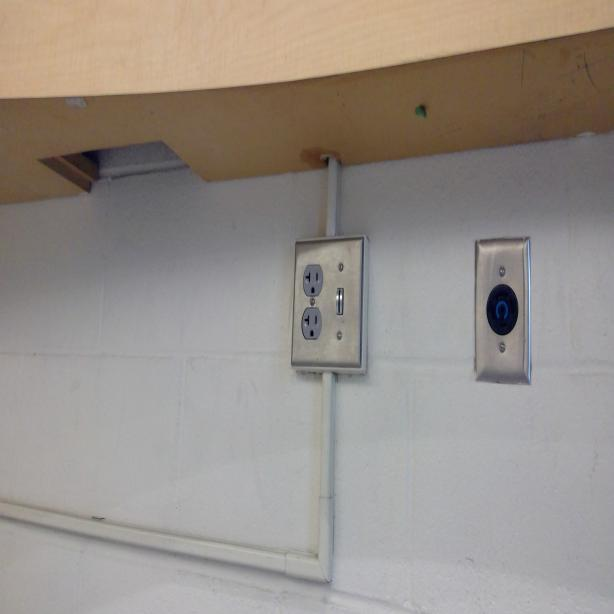typeb: (302, 264, 324, 298), (302, 308, 323, 341)
